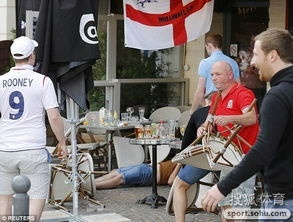falling: (86, 145, 204, 195)
